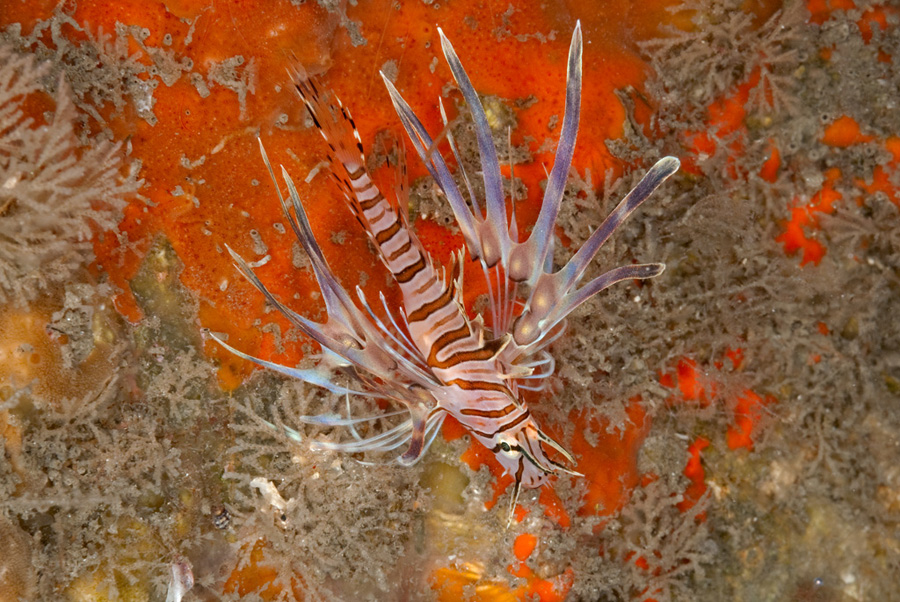Pterois_volitans: (201, 50, 624, 519)
